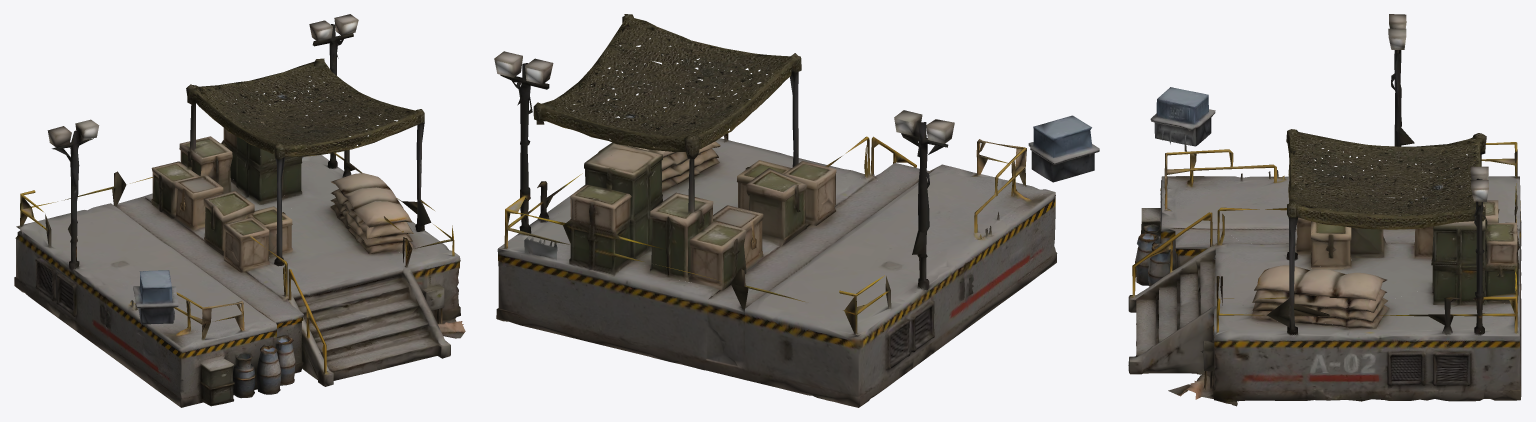
The model's file is central-platform.glb.
The picture shows the model from 3 angles, left to right: view 1: azimuth 30°, elevation 25°; view 2: azimuth 150°, elevation 25°; view 3: azimuth 270°, elevation 25°; orthographic projection. The views are drawn at different scales.
Visible parts, largest first — view 1: base, cover, canopy, lamp_l, lamp_r; view 2: base, cover, canopy, lamp_r, lamp_l; view 3: base, cover, canopy, lamp_r, lamp_l.
Boxes of the visible parts, x1,y1,x2,y2 form: base: (14,104,465,407); cover: (145,111,454,301); canopy: (186,61,424,176); lamp_l: (47,119,99,262); lamp_r: (309,14,358,162); base: (496,43,1099,407); cover: (570,119,894,299); canopy: (544,14,801,158); lamp_r: (494,51,563,235); lamp_l: (894,110,954,280); base: (1128,87,1521,406); cover: (1184,200,1517,329); canopy: (1286,129,1486,229); lamp_r: (1455,166,1517,335); lamp_l: (1388,14,1414,158).
Bounding box in the file's own units: 8.44 × 4.65 × 7.37.
Materials: 1 (1 with a texture image).
